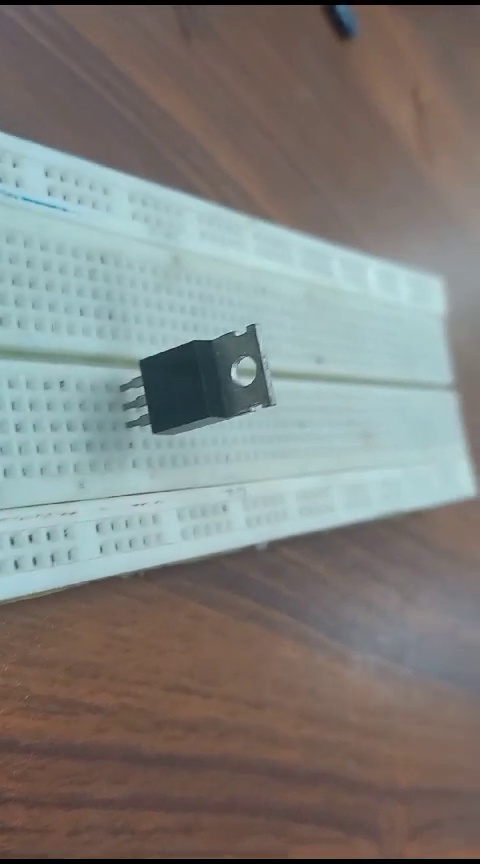voltage regulator: (101, 327, 281, 437)
